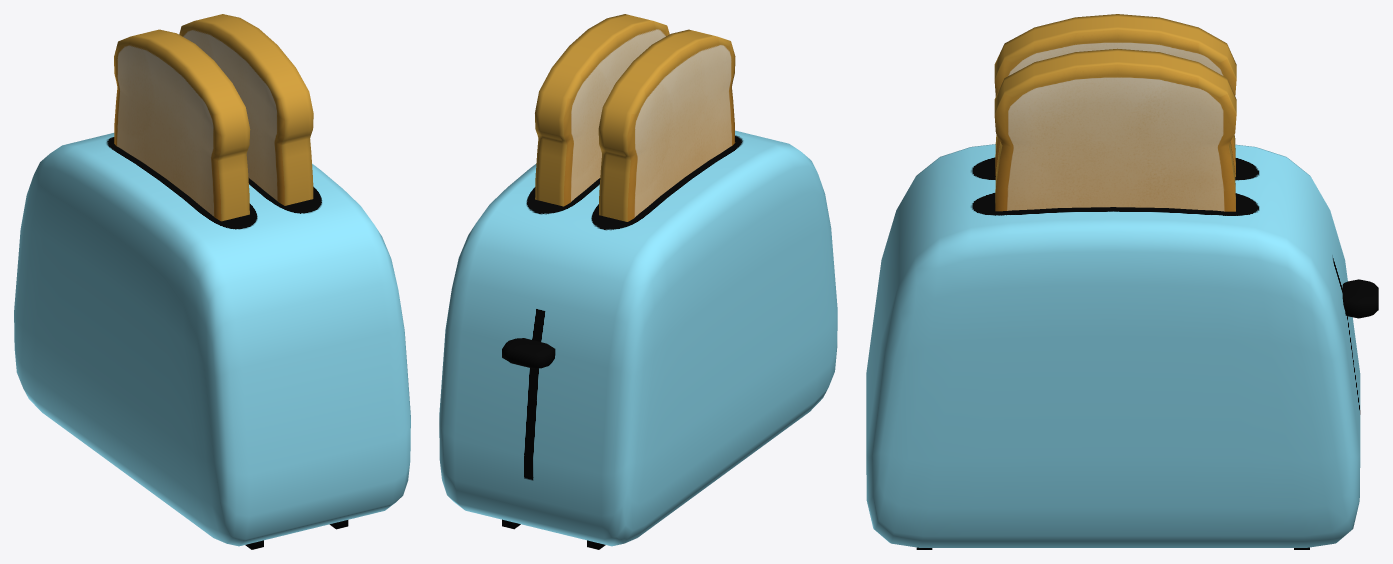
Rendered from toaster.fbx.
3 views of the same model, side by side, from view 1: azimuth 30°, elevation 25°; view 2: azimuth 150°, elevation 25°; view 3: azimuth 270°, elevation 25° (orthographic). The views are drawn at different scales.
Parts seen in each view (by area): view 1: toaster, pCube8, pCube7; view 2: toaster, pCube8, pCube7, knob; view 3: toaster, pCube7, pCube8, knob.
Part boxes in pixels (x1,y1,x2,y2): toaster: (14,133,410,546); pCube8: (114,29,250,221); pCube7: (179,14,313,205); toaster: (439,130,837,546); pCube8: (598,29,735,221); pCube7: (535,14,669,206); knob: (502,338,555,368); toaster: (866,144,1360,547); pCube7: (994,48,1236,211); pCube8: (994,14,1236,176); knob: (1342,279,1378,318).
Bounding box in the file's own units: 0.7663 × 1.61 × 1.54.
3 materials, 2 textured.
